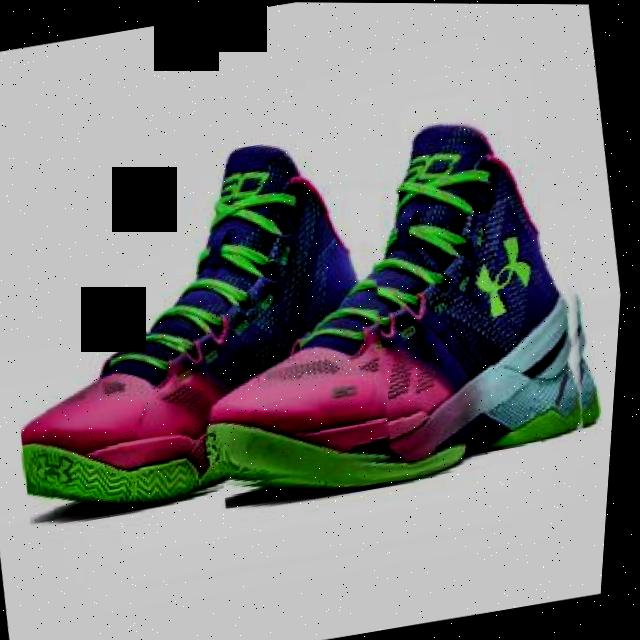shoe: (172, 95, 629, 510), (0, 124, 425, 526)
